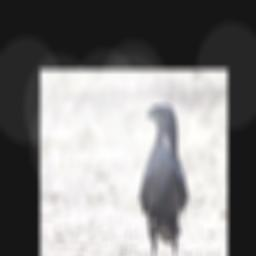Crow: (137, 103, 190, 256)
